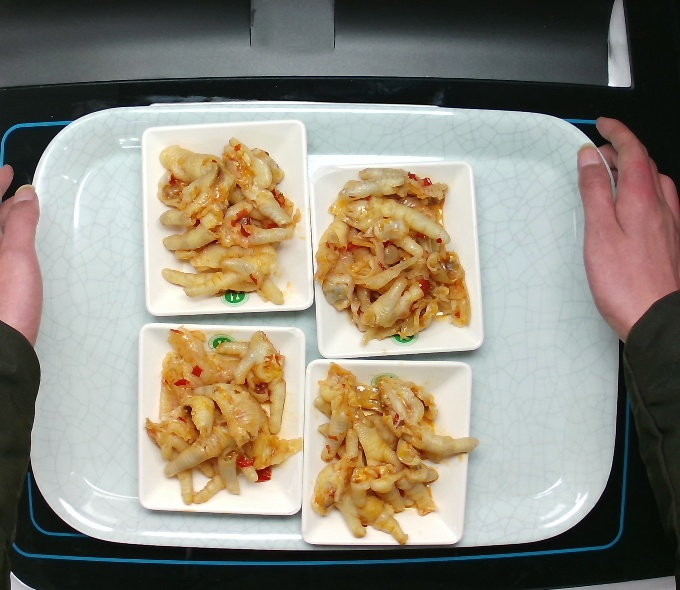wcq-LuJiZhua: (309, 347, 481, 553), (146, 307, 304, 513), (314, 150, 473, 347), (154, 118, 307, 310)
